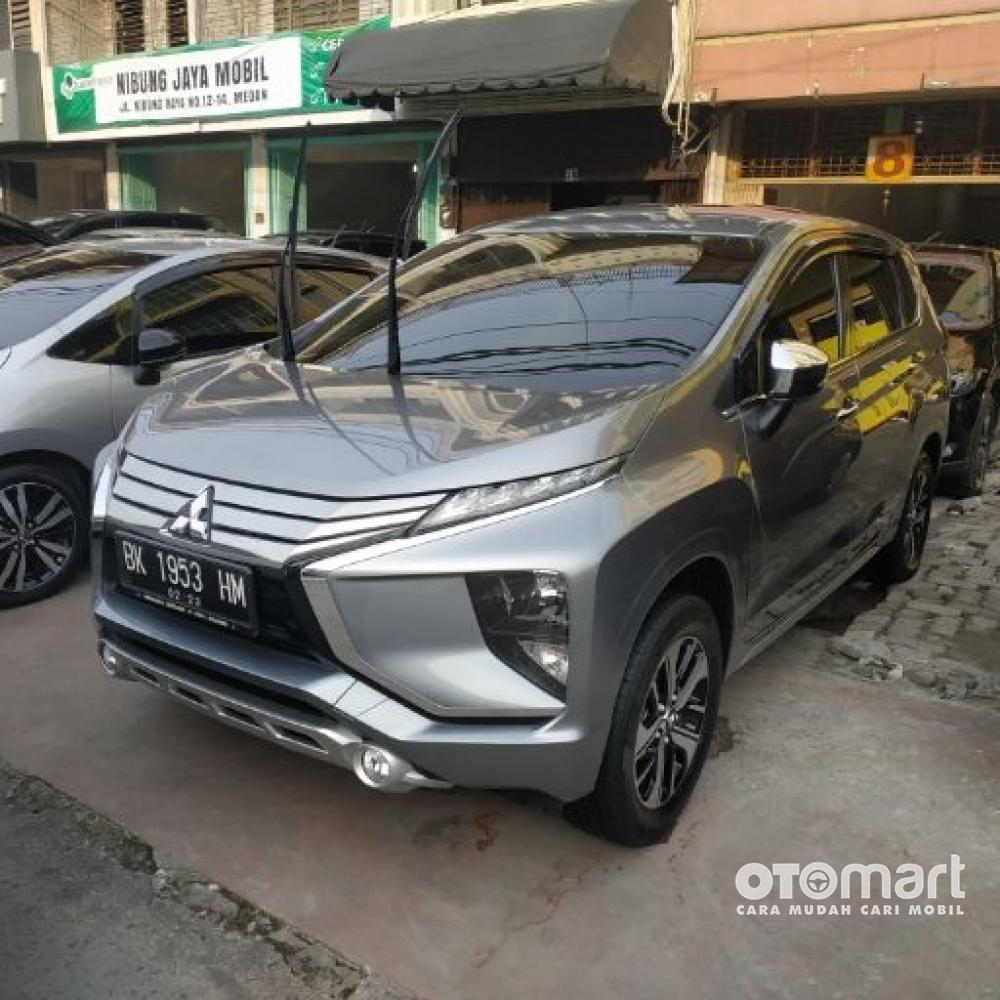plate: (116, 534, 253, 633)
